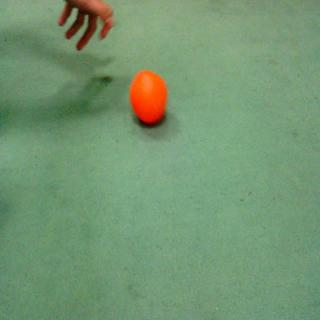orange: (127, 65, 172, 136)
